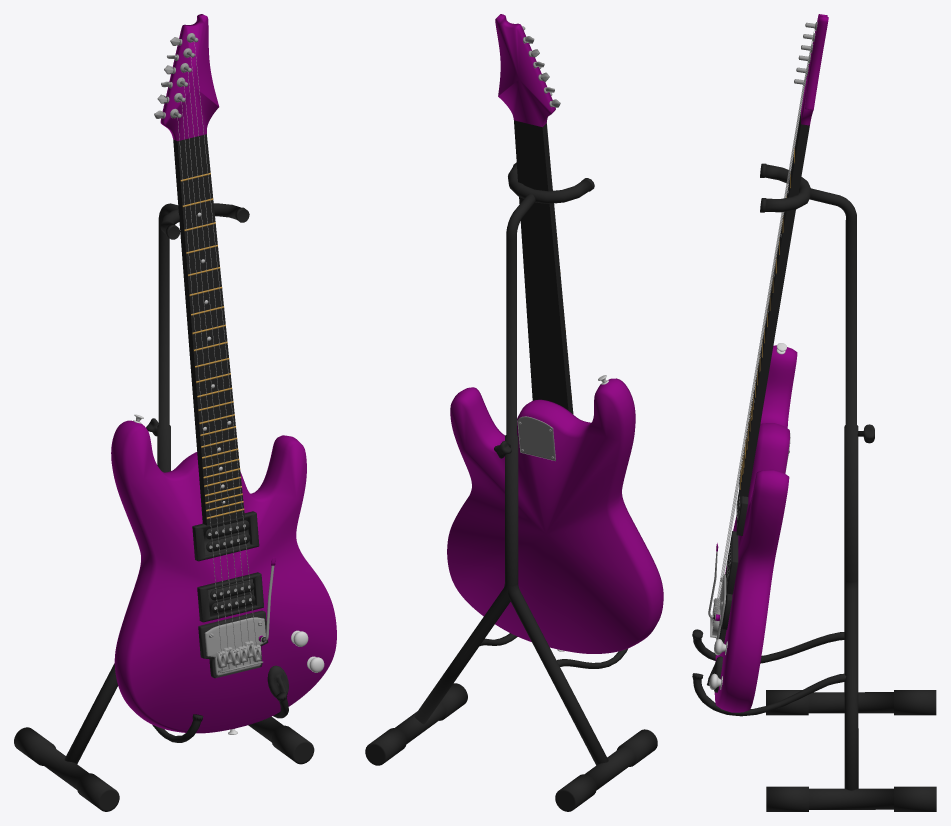
The model's file is guiter.glb.
3 views of the same model, side by side, from view 1: azimuth 30°, elevation 25°; view 2: azimuth 150°, elevation 25°; view 3: azimuth 270°, elevation 25° (orthographic). The views are drawn at different scales.
Parts seen in each view (by area): view 1: Holder_L.001_Sphere.004; view 2: Holder_L.001_Sphere.004; view 3: Holder_L.001_Sphere.004.
Boxes of the visible parts, x1,y1,x2,y2 form: Holder_L.001_Sphere.004: (14, 14, 336, 811); Holder_L.001_Sphere.004: (365, 14, 663, 811); Holder_L.001_Sphere.004: (692, 14, 936, 811).
Size of the model in its own units: 0.3138 by 1 by 0.2926.
